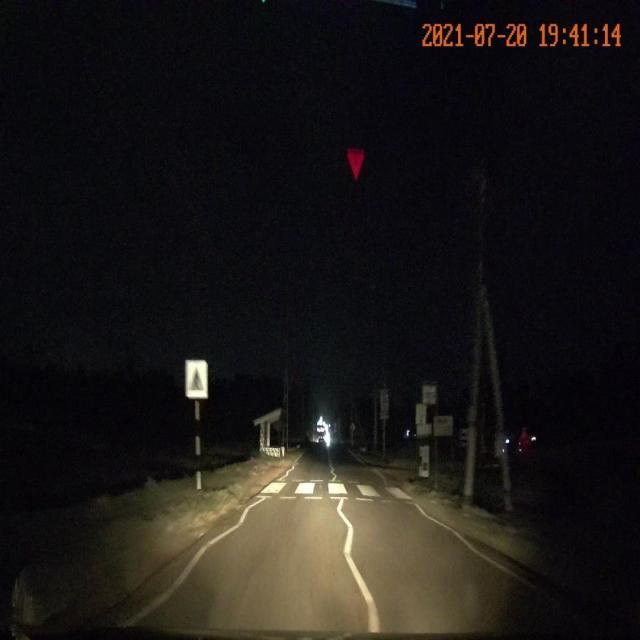Crosswalk: (253, 476, 420, 506)
